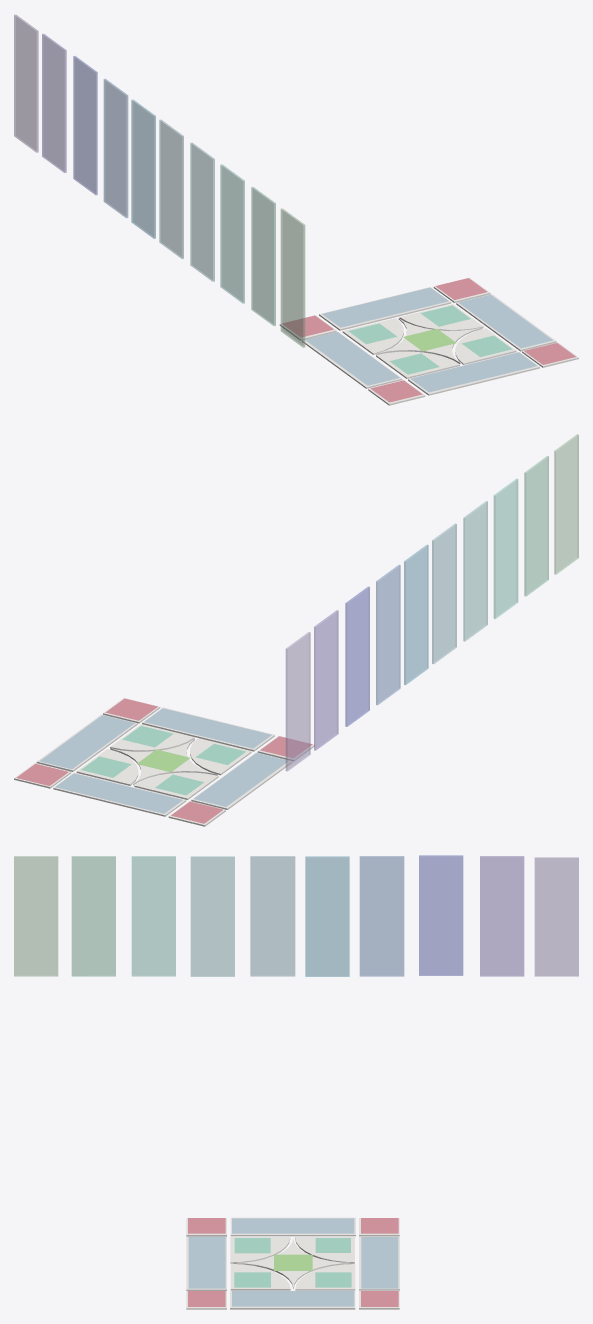
The model's file is colorPicker_v01.glb.
The picture shows the model from 3 angles, top to bottom: view 1: azimuth 30°, elevation 25°; view 2: azimuth 150°, elevation 25°; view 3: azimuth 270°, elevation 25°; orthographic projection. The views are drawn at different scales.
Parts seen in each view (by area): view 1: verreVert02A, verreBleu04A, verreBleu02A, verreVert03A, verreBleu03A, verreJaune01A, verreVert01A, verreBleu01A, verreBleu05A, verreJaune02A, couleurRectangle03, couleurRectangle04 (+20 smaller); view 2: verreVert03A, verreJaune02A, verreBleu02A, verreBleu01A, verreJaune01A, verreVert01A, verreVert02A, verreBleu04A, verreBleu05A, verreBleu03A, couleurRectangle03, couleurRectangle04 (+20 smaller); view 3: verreBleu02A, verreBleu04A, verreBleu03A, verreVert03A, verreJaune01A, verreVert01A, verreBleu05A, verreBleu01A, verreVert02A, verreJaune02A, couleurRectangle03, couleurRectangle04 (+16 smaller).
Boxes of the visible parts, <box> form: verreVert02A: <box>280,208,305,347</box>; verreBleu04A: <box>103,79,128,218</box>; verreBleu02A: <box>159,119,183,259</box>; verreVert03A: <box>220,164,244,303</box>; verreBleu03A: <box>131,99,155,238</box>; verreJaune01A: <box>42,33,66,172</box>; verreVert01A: <box>251,187,275,326</box>; verreBleu01A: <box>190,142,214,281</box>; verreBleu05A: <box>73,56,97,195</box>; verreJaune02A: <box>14,14,38,152</box>; couleurRectangle03: <box>410,352,536,392</box>; couleurRectangle04: <box>322,287,448,327</box>; verreVert03A: <box>493,478,518,618</box>; verreJaune02A: <box>285,632,310,771</box>; verreBleu02A: <box>432,523,456,664</box>; verreBleu01A: <box>463,501,487,641</box>; verreJaune01A: <box>314,610,338,750</box>; verreVert01A: <box>524,456,548,596</box>; verreVert02A: <box>554,434,578,574</box>; verreBleu04A: <box>376,565,400,705</box>; verreBleu05A: <box>345,586,369,726</box>; verreBleu03A: <box>404,544,428,684</box>; couleurRectangle03: <box>144,708,271,748</box>; couleurRectangle04: <box>55,773,182,813</box>; verreBleu02A: <box>250,856,295,976</box>; verreBleu04A: <box>359,856,404,976</box>; verreBleu03A: <box>305,856,349,976</box>; verreVert03A: <box>131,856,175,976</box>; verreJaune01A: <box>480,856,524,976</box>; verreVert01A: <box>71,856,115,976</box>; verreBleu05A: <box>419,855,463,975</box>; verreBleu01A: <box>190,856,234,976</box>; verreVert02A: <box>14,856,58,976</box>; verreJaune02A: <box>534,857,578,976</box>; couleurRectangle03: <box>188,1237,225,1288</box>; couleurRectangle04: <box>361,1237,398,1288</box>.
Size of the model in its own units: 0.8066 by 0.6102 by 1.11.
